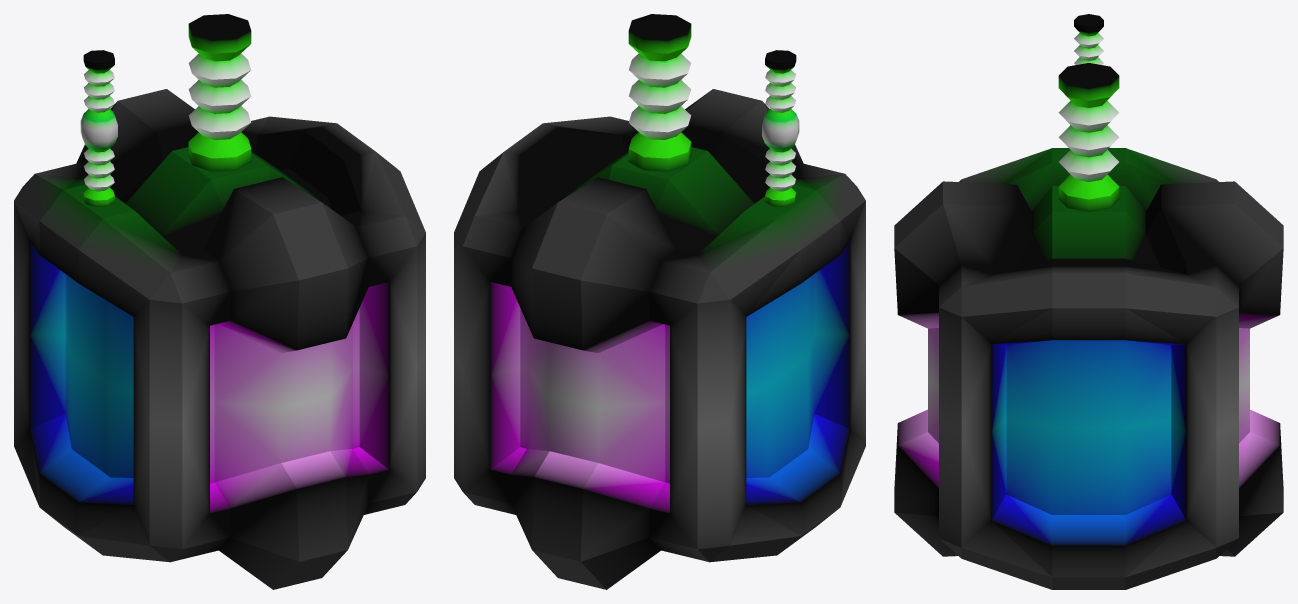
The model's file is spaceCube.fbx.
3 renders of one model, left to right at view 1: azimuth 30°, elevation 25°; view 2: azimuth 150°, elevation 25°; view 3: azimuth 270°, elevation 25°, orthographic. The views are drawn at different scales.
Parts seen in each view (by area): view 1: SpaceCube01; view 2: SpaceCube01; view 3: SpaceCube01.
Part boxes in pixels (<box>): SpaceCube01: <box>14,14,425,589</box>; SpaceCube01: <box>454,14,865,589</box>; SpaceCube01: <box>894,14,1283,589</box>.
Size of the model in its own units: 23.29 by 34.57 by 25.97.
